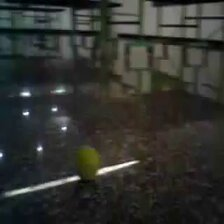tennis: (72, 146, 103, 183)
